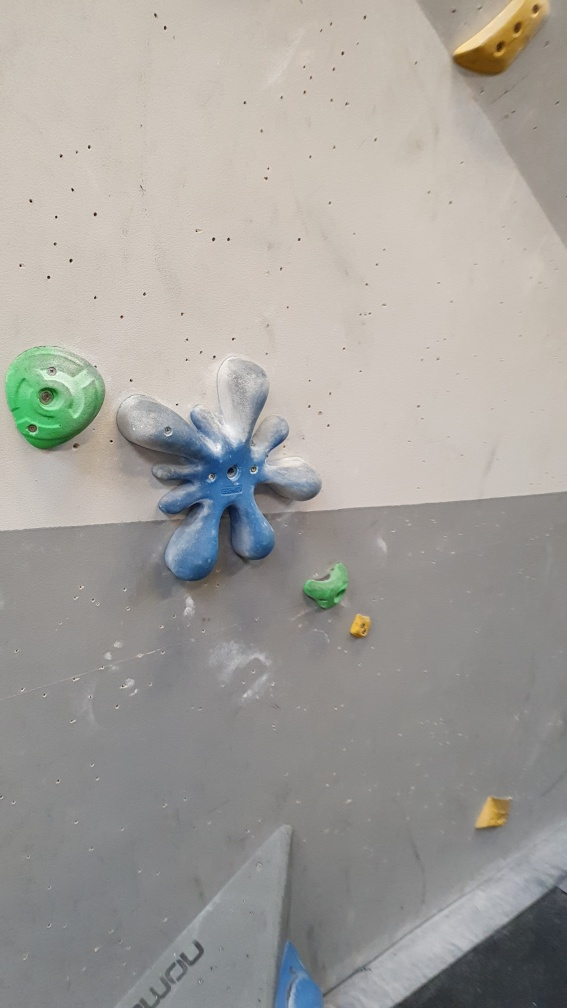Jug: (3, 340, 112, 456), (303, 555, 352, 614)
Octopus Pinch: (116, 357, 323, 592)
